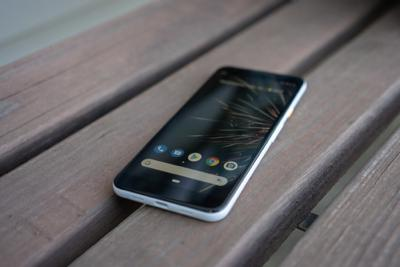cell-phone: (110, 60, 310, 224)
